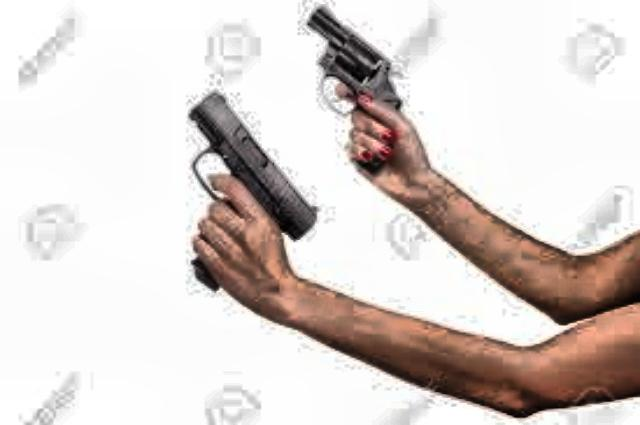pistol: (176, 91, 316, 291), (301, 5, 405, 167)
